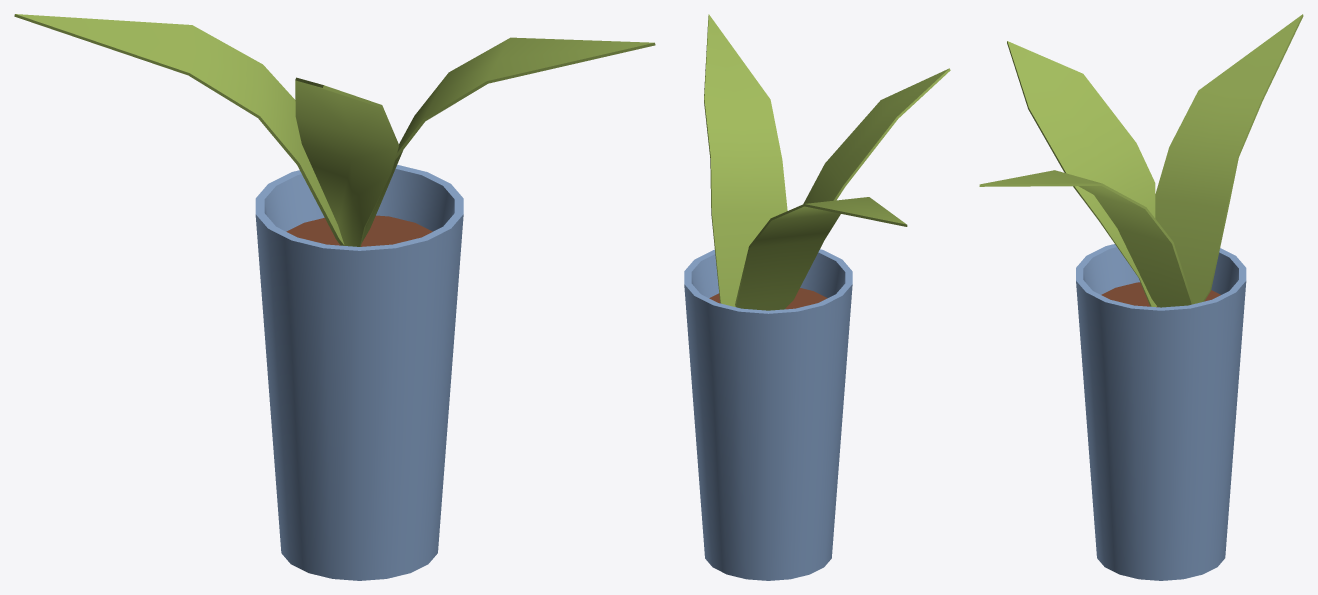
The model's file is pot2.fbx.
3 views of the same model, side by side, from view 1: azimuth 30°, elevation 25°; view 2: azimuth 150°, elevation 25°; view 3: azimuth 270°, elevation 25° (orthographic). The views are drawn at different scales.
Parts seen in each view (by area): view 1: Object196; view 2: Object196; view 3: Object196.
Part boxes in pixels (x1,y1,x2,y2): Object196: (14, 14, 655, 580); Object196: (684, 14, 950, 580); Object196: (979, 14, 1303, 580).
Size of the model in its own units: 0.8281 by 0.64 by 1.
Materials: 1 (1 with a texture image).
